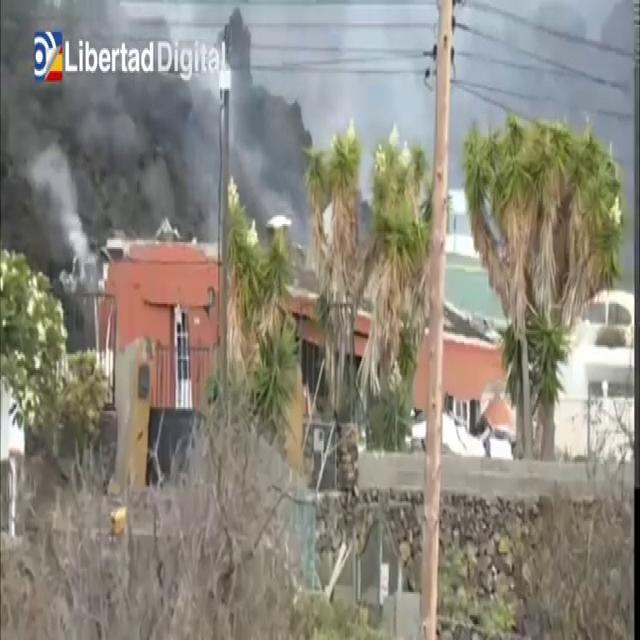Smoke: (0, 1, 307, 271)
